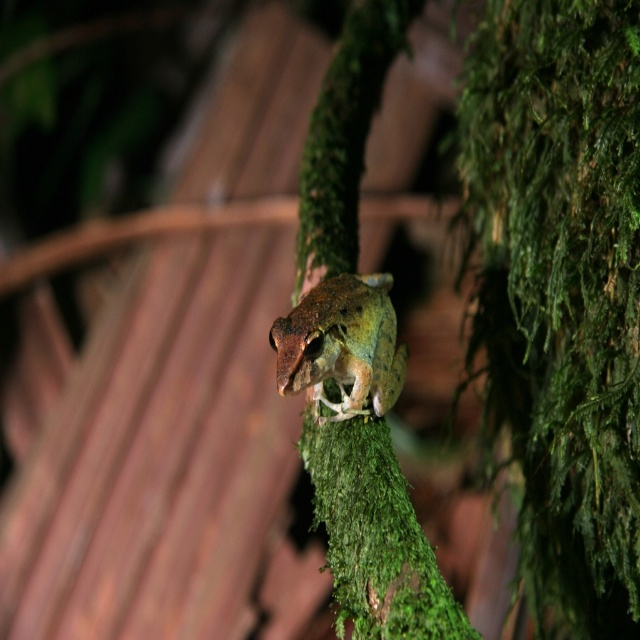Frog: (266, 272, 408, 418)
